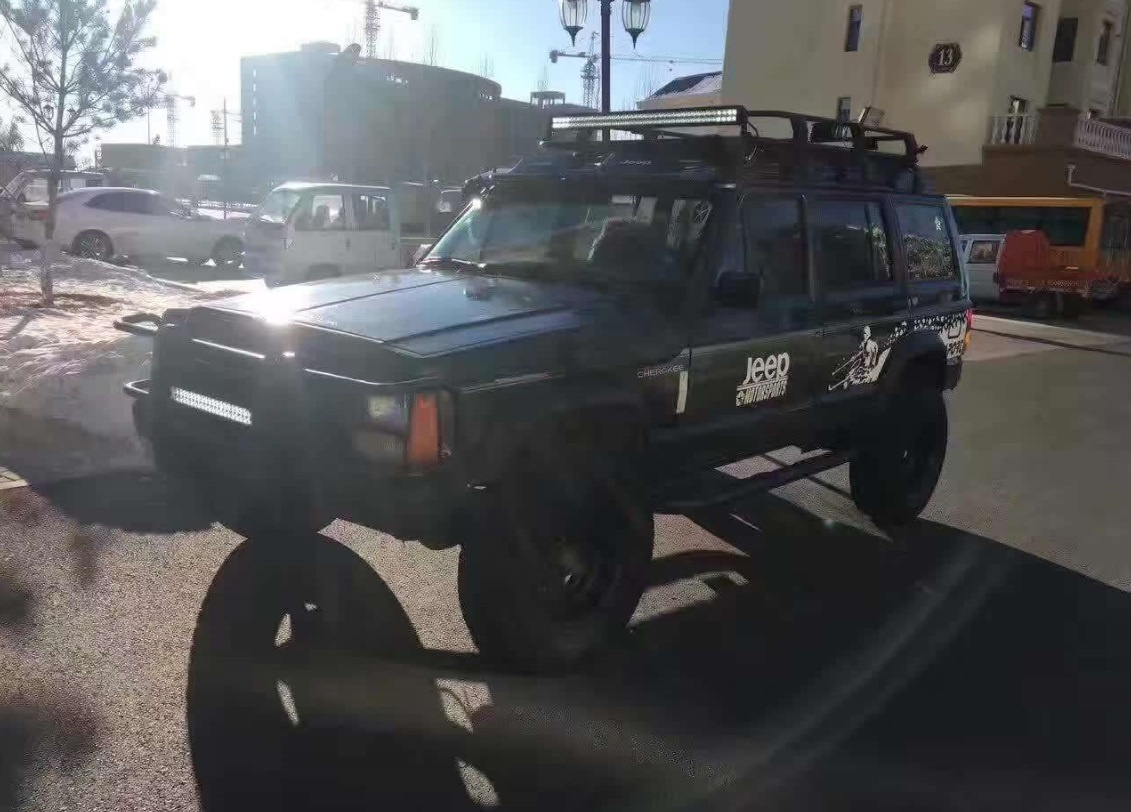family sedan: (48, 172, 253, 283)
jeep: (141, 111, 960, 632)
truck: (268, 169, 426, 289)
